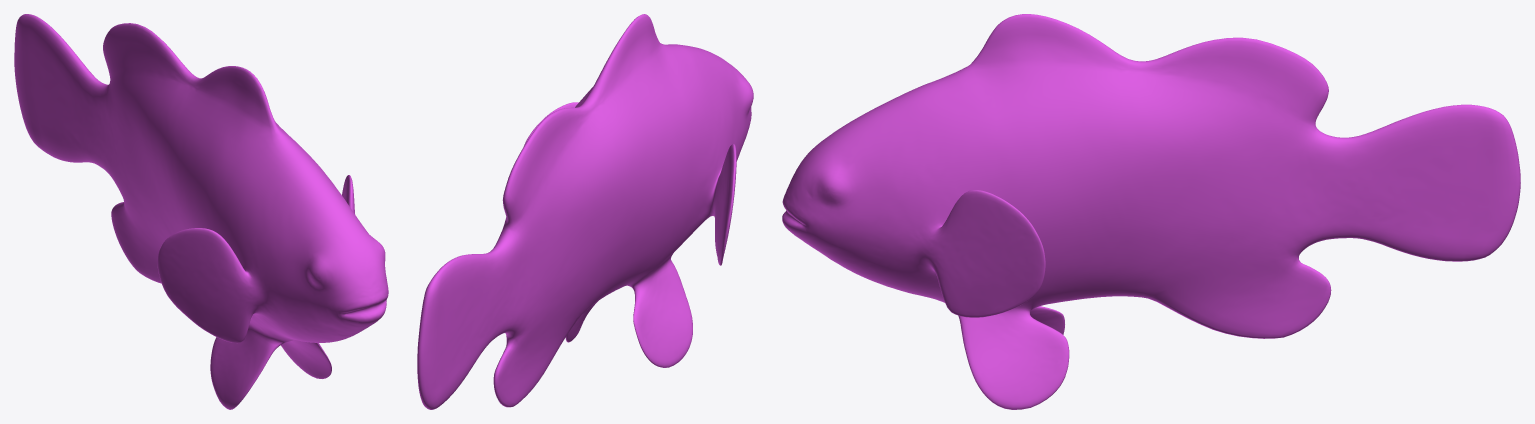
Rendered from Clown_Fish.fbx.
The picture shows the model from 3 angles, left to right: view 1: azimuth 30°, elevation 25°; view 2: azimuth 150°, elevation 25°; view 3: azimuth 270°, elevation 25°; orthographic projection. The views are drawn at different scales.
Visible parts, largest first — view 1: clown_fish; view 2: clown_fish; view 3: clown_fish.
Boxes of the visible parts, <box> form: clown_fish: <box>14,14,388,409</box>; clown_fish: <box>417,14,753,409</box>; clown_fish: <box>782,14,1520,409</box>.
Size of the model in its own units: 319 by 513 by 936.
